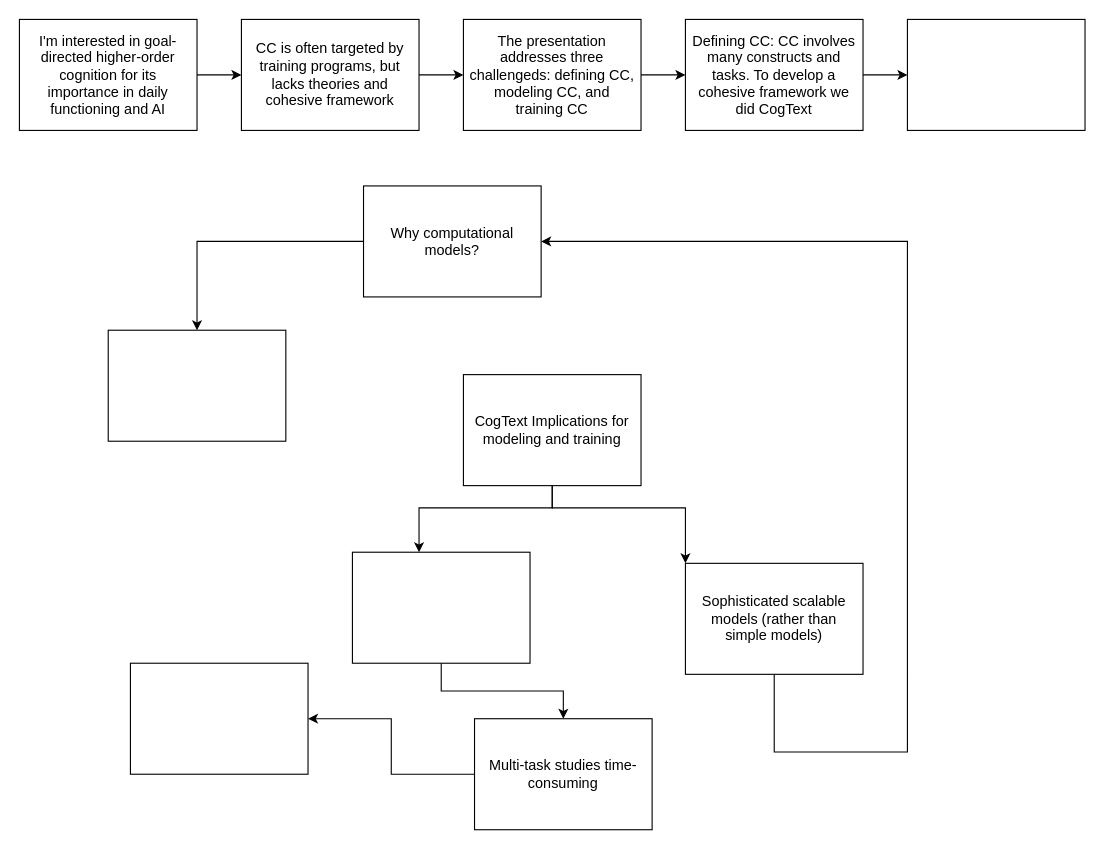
Some shapes in this 1104 by 849 pixel diagram are drawn without their labels. The centre of each missing label's shape, as x and y in pixels:
Battery of tasks OR complex tasks: the point at 440,607
CogText: the point at 995,74
Importance of CC in AI: the point at 196,385
Why training and why AVGP?: the point at 218,718
